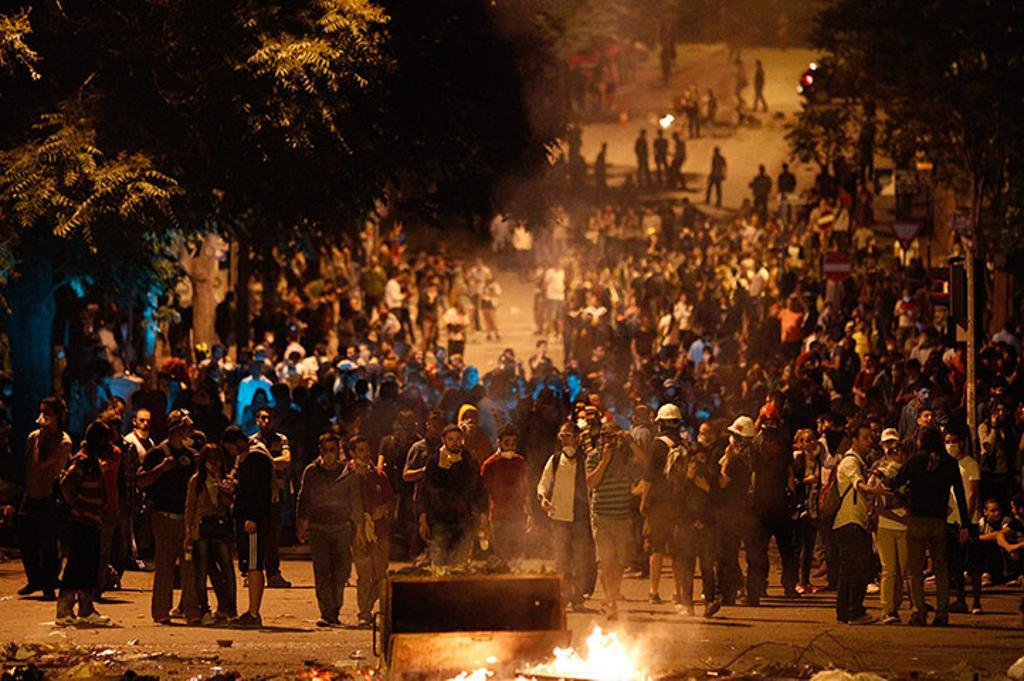face: (38, 410, 55, 437), (500, 437, 518, 459), (322, 442, 338, 465), (675, 346, 690, 370), (697, 424, 712, 447), (260, 411, 277, 431), (559, 425, 576, 445), (858, 428, 873, 450), (946, 434, 961, 456), (230, 440, 248, 456), (444, 437, 461, 453), (429, 421, 446, 437), (346, 418, 360, 437), (137, 412, 151, 430), (355, 443, 369, 461), (730, 428, 744, 446), (803, 431, 816, 450), (55, 349, 68, 368), (324, 369, 336, 389), (987, 504, 1001, 521), (207, 452, 220, 470), (917, 389, 932, 403), (177, 343, 191, 358), (578, 411, 589, 430), (870, 423, 881, 442), (996, 405, 1008, 422), (921, 412, 935, 426), (892, 448, 906, 462), (764, 419, 779, 432), (114, 403, 124, 420), (605, 435, 618, 448), (463, 416, 477, 428), (884, 440, 898, 452), (521, 402, 533, 416), (279, 394, 291, 407), (588, 395, 601, 407), (467, 373, 480, 385), (382, 383, 395, 395), (199, 392, 210, 406), (929, 377, 939, 392), (823, 374, 832, 390), (851, 415, 862, 428), (800, 434, 811, 447), (102, 439, 112, 453), (432, 370, 442, 384), (55, 380, 65, 394), (661, 361, 676, 370), (333, 426, 342, 441), (547, 379, 559, 390), (567, 377, 577, 390), (271, 443, 281, 456), (160, 378, 170, 391), (586, 410, 596, 423), (783, 366, 792, 380), (695, 409, 709, 418), (680, 426, 690, 438), (666, 389, 676, 401), (537, 399, 547, 411), (492, 408, 502, 420), (766, 396, 775, 409), (281, 366, 290, 379), (631, 414, 641, 425), (712, 395, 722, 406), (452, 355, 462, 366), (473, 386, 483, 397), (396, 431, 406, 442), (253, 364, 263, 375), (176, 426, 186, 437), (408, 392, 420, 401), (164, 292, 172, 305), (891, 368, 901, 378), (637, 413, 647, 423), (159, 320, 169, 330), (607, 396, 616, 407), (359, 404, 370, 413), (822, 421, 833, 430), (577, 404, 586, 415), (587, 372, 598, 381), (818, 420, 825, 434), (215, 348, 223, 360), (652, 397, 660, 409), (677, 402, 685, 414), (714, 345, 722, 357), (159, 401, 166, 414), (1017, 406, 1024, 419), (256, 395, 266, 404), (136, 400, 145, 410), (596, 347, 605, 357), (783, 401, 792, 411), (753, 365, 762, 375), (290, 353, 300, 362), (920, 334, 928, 345), (500, 358, 508, 369), (649, 414, 657, 425), (1012, 502, 1019, 514), (683, 381, 690, 393), (998, 453, 1006, 463), (634, 375, 642, 385), (623, 383, 631, 393), (415, 351, 423, 361), (304, 379, 314, 387), (740, 357, 747, 368), (400, 364, 407, 375), (539, 344, 547, 353), (704, 353, 712, 362), (996, 388, 1004, 397), (719, 388, 728, 396), (935, 409, 944, 417), (438, 351, 447, 359), (887, 340, 894, 350), (653, 381, 660, 391), (288, 363, 295, 373), (599, 372, 606, 382), (629, 367, 635, 378), (201, 369, 207, 380), (865, 360, 873, 368), (628, 402, 635, 411), (905, 367, 911, 377), (742, 383, 748, 393), (570, 361, 578, 368), (982, 359, 990, 366), (1015, 476, 1022, 484), (821, 336, 828, 344), (630, 391, 637, 399), (249, 356, 256, 364), (802, 387, 808, 396), (844, 342, 850, 351), (644, 317, 650, 326), (605, 329, 611, 338), (1004, 354, 1011, 361), (1006, 396, 1013, 403), (752, 323, 759, 330), (323, 402, 330, 409), (361, 328, 368, 335), (957, 350, 964, 357), (677, 380, 683, 388), (847, 328, 854, 334), (663, 399, 669, 406), (691, 421, 697, 428), (357, 369, 363, 376), (997, 361, 1002, 369), (804, 365, 813, 369), (880, 358, 886, 364), (771, 366, 777, 372), (776, 353, 782, 359), (411, 374, 417, 380), (660, 309, 665, 316), (742, 343, 747, 350), (814, 347, 822, 351), (869, 399, 874, 405), (816, 332, 822, 337), (793, 348, 799, 353), (587, 317, 593, 322), (829, 341, 835, 345)
